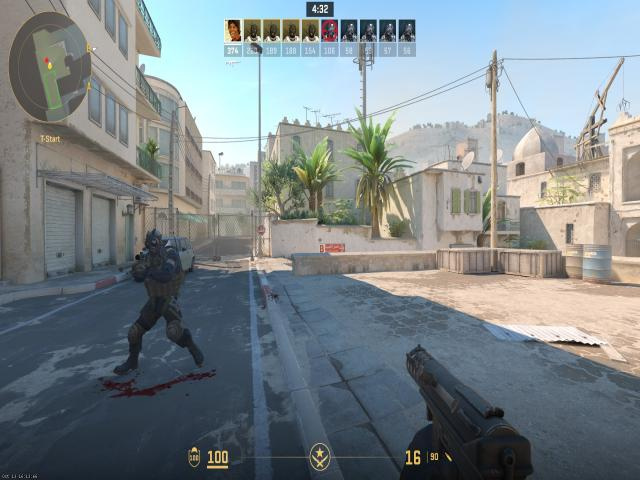CT: (137, 228, 176, 368)
CT-Head: (144, 229, 162, 256)
